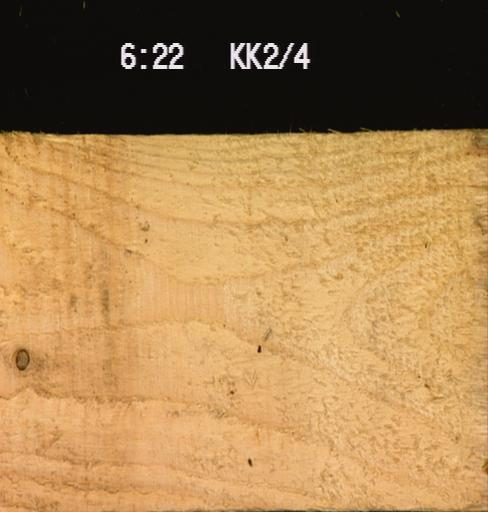dry_knot: (12, 346, 30, 371)
